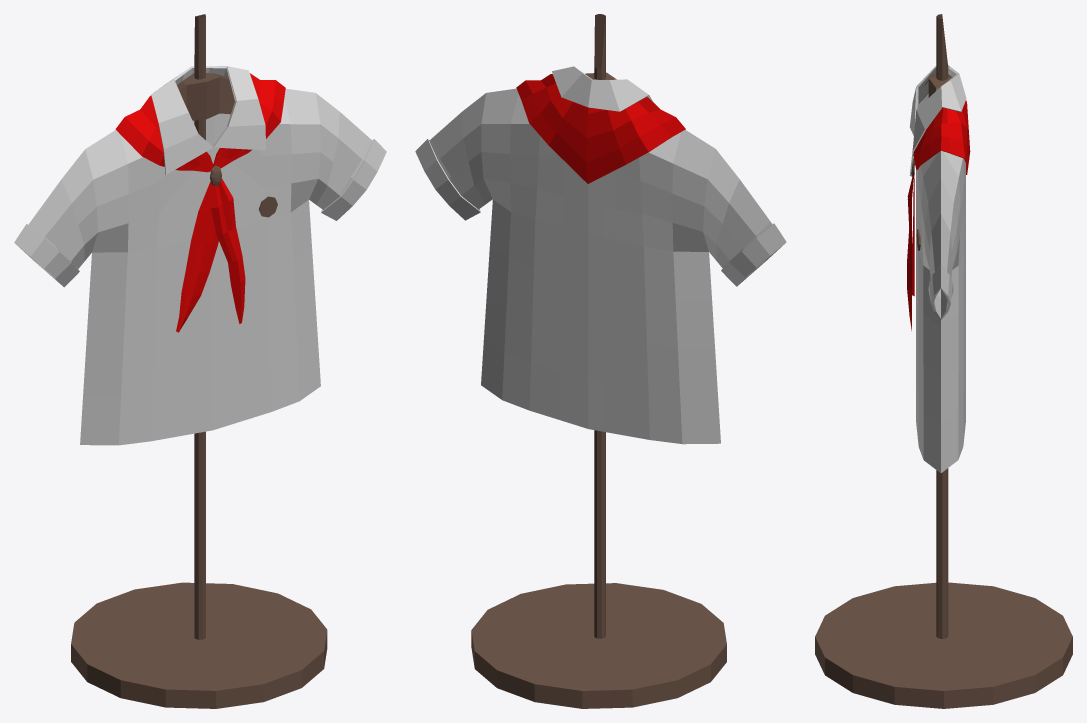
The model's file is 5pioner.glb.
3 renders of one model, left to right at view 1: azimuth 30°, elevation 25°; view 2: azimuth 150°, elevation 25°; view 3: azimuth 270°, elevation 25°, orthographic.
Parts seen in each view (by area): view 1: Плоскость.007; view 2: Плоскость.007; view 3: Плоскость.007.
Boxes of the visible parts, x1,y1,x2,y2 form: Плоскость.007: (14, 14, 386, 708); Плоскость.007: (415, 14, 786, 708); Плоскость.007: (815, 14, 1072, 708).
Size of the model in its own units: 3.42 by 5.61 by 2.05.
